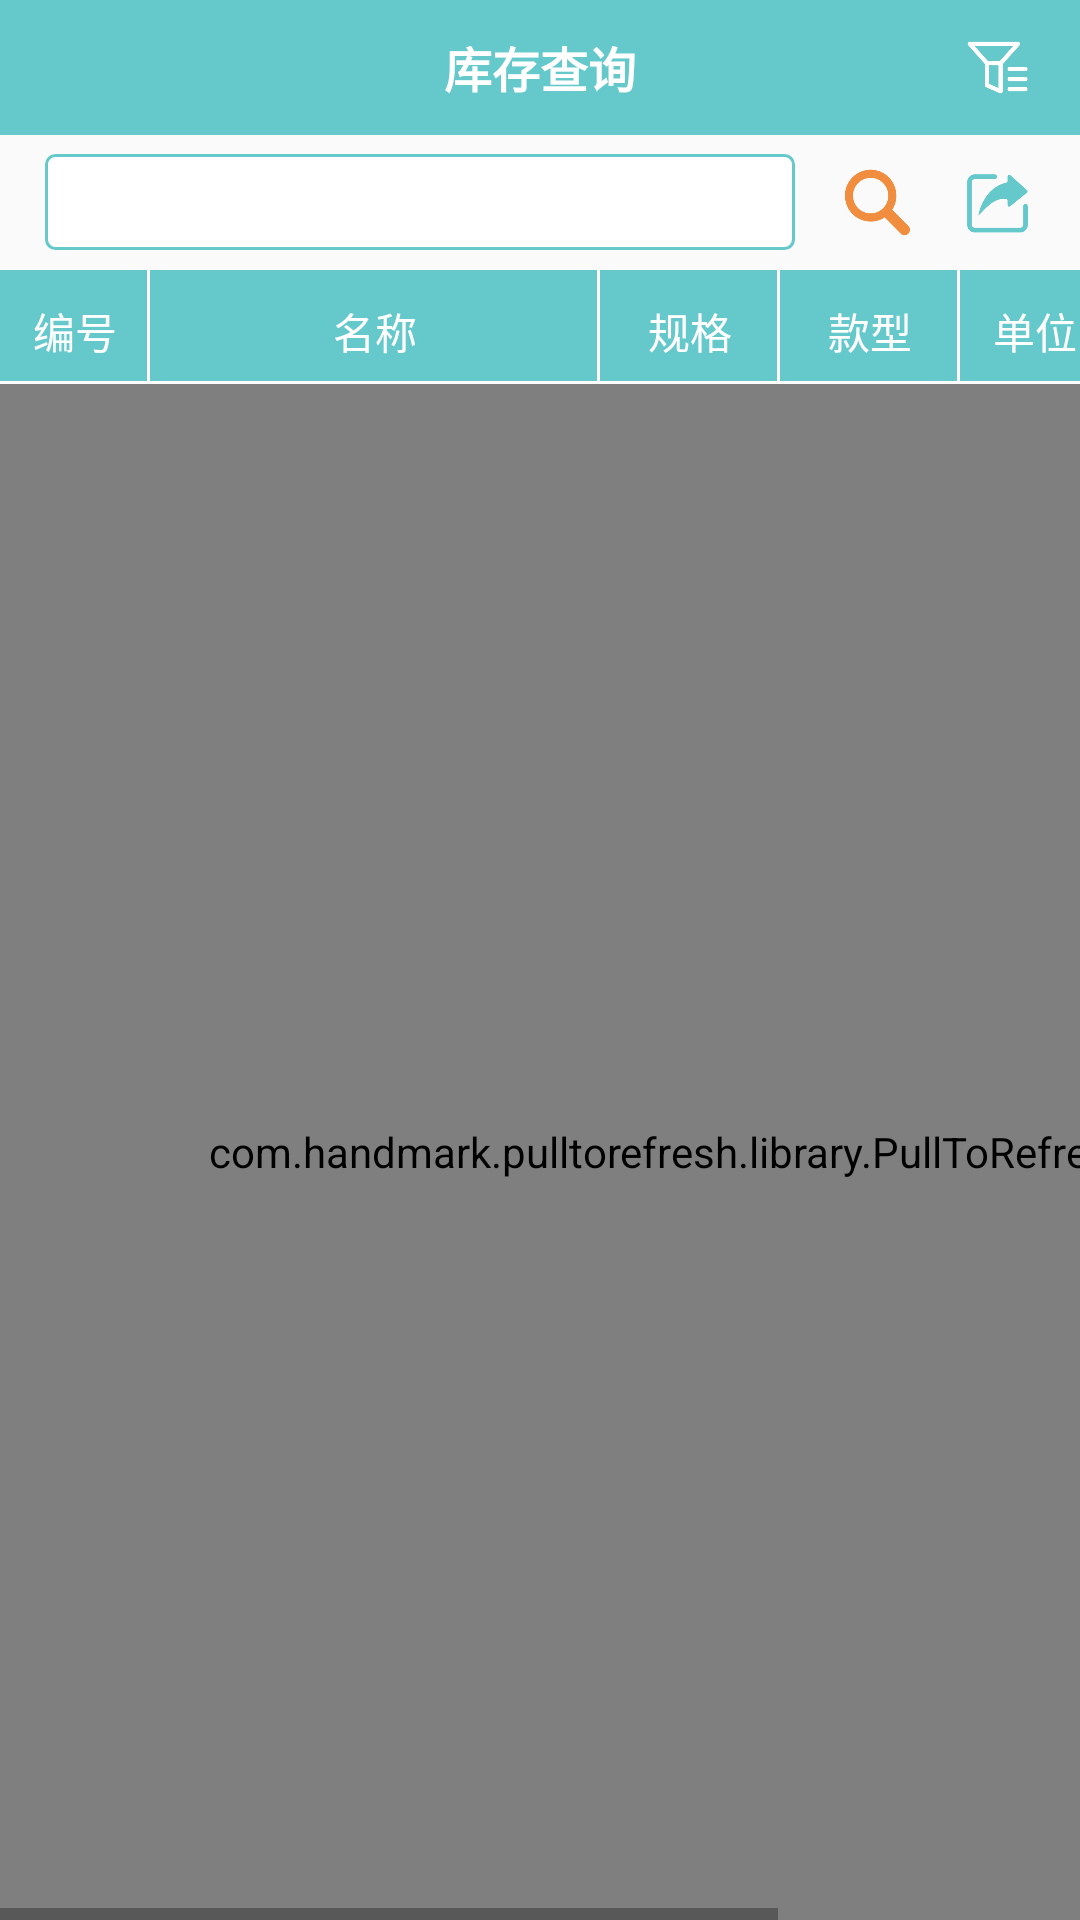

Icons on this 1080px x 1920px Android screen, each with the point to tap as point (x, y):
filter: point (997, 67)
search: point (877, 202)
